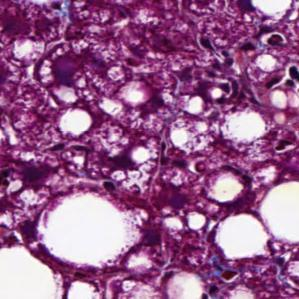inflammation: (190, 49, 252, 105), (11, 149, 64, 199), (155, 174, 206, 224)
